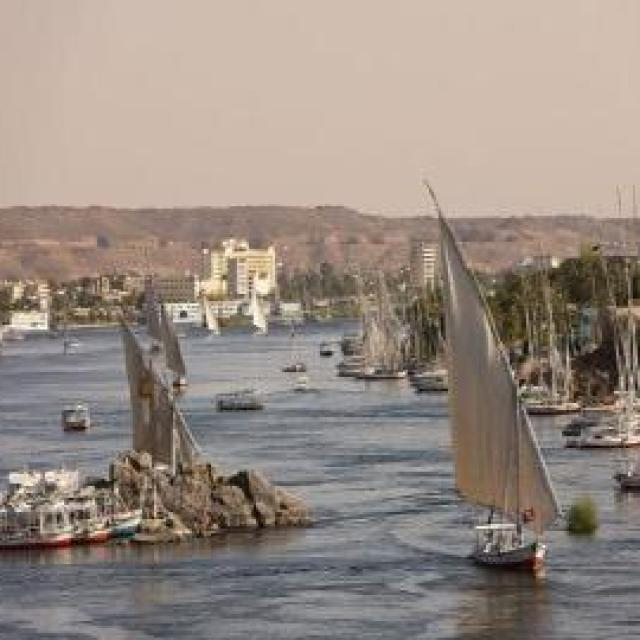houseboat: (0, 474, 135, 550), (212, 387, 268, 415), (59, 401, 92, 436)
sailboat: (416, 171, 564, 572)
